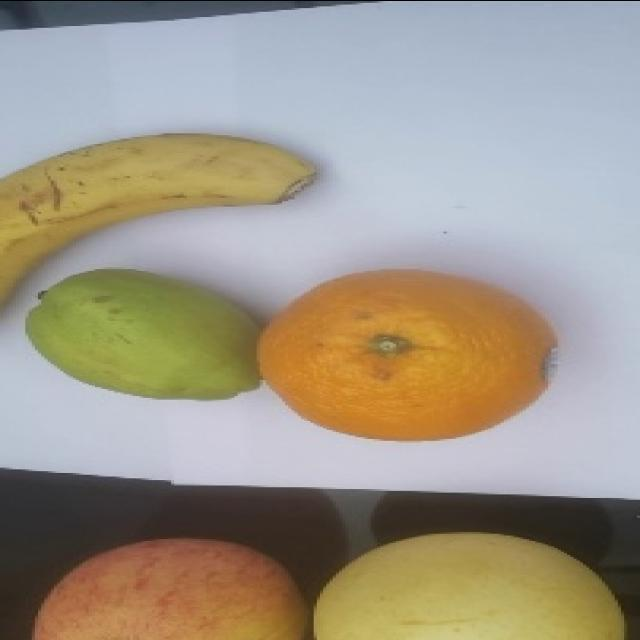Apple: (31, 536, 310, 639)
Banana: (0, 130, 316, 310)
Orange: (257, 267, 558, 441)
